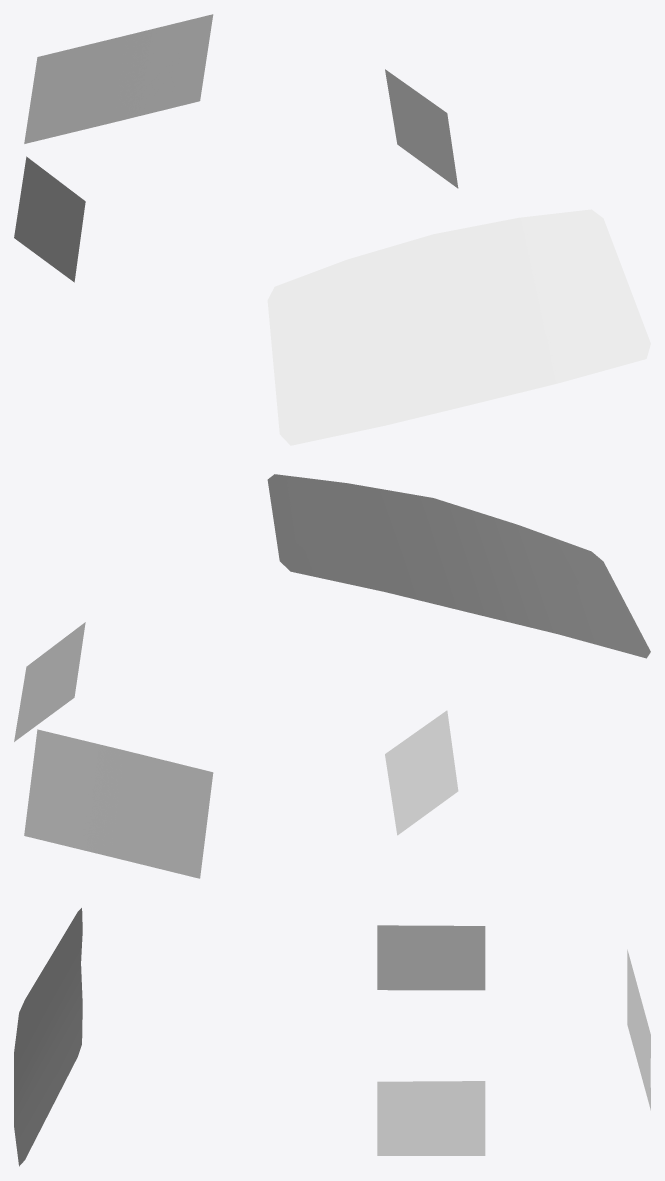
3 renders of one model, top to bottom at view 1: azimuth 30°, elevation 25°; view 2: azimuth 150°, elevation 25°; view 3: azimuth 270°, elevation 25°, orthographic. The views are drawn at different scales.
Size of the model in its own units: 1.41 by 0.4999 by 2.28.
Materials: 1 (1 with a texture image).
